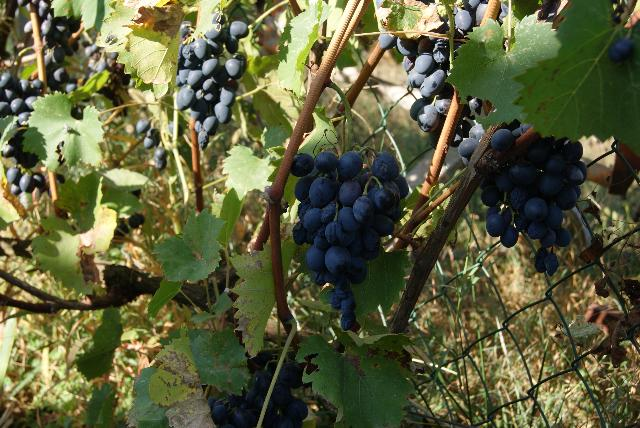grapes: (480, 138, 588, 275), (175, 14, 249, 148), (379, 16, 454, 141), (0, 72, 45, 195), (32, 0, 80, 90), (454, 0, 486, 51), (491, 129, 515, 151)
